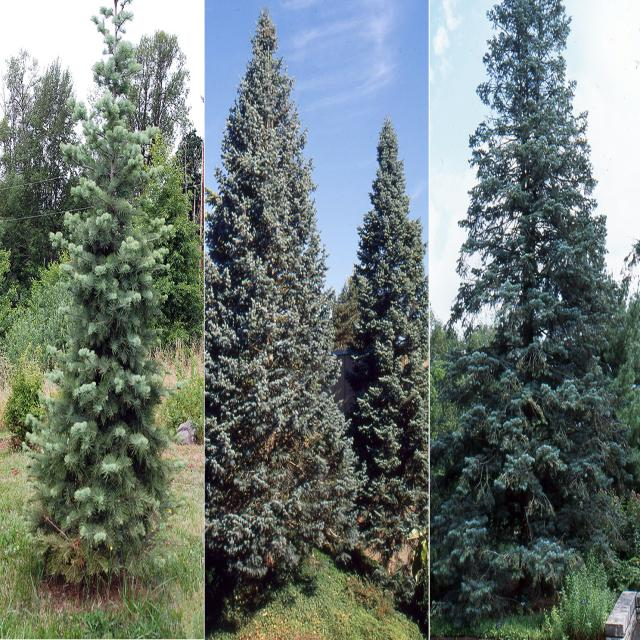Abies: (439, 0, 617, 608), (200, 6, 353, 584), (23, 0, 173, 589), (341, 104, 430, 566)
